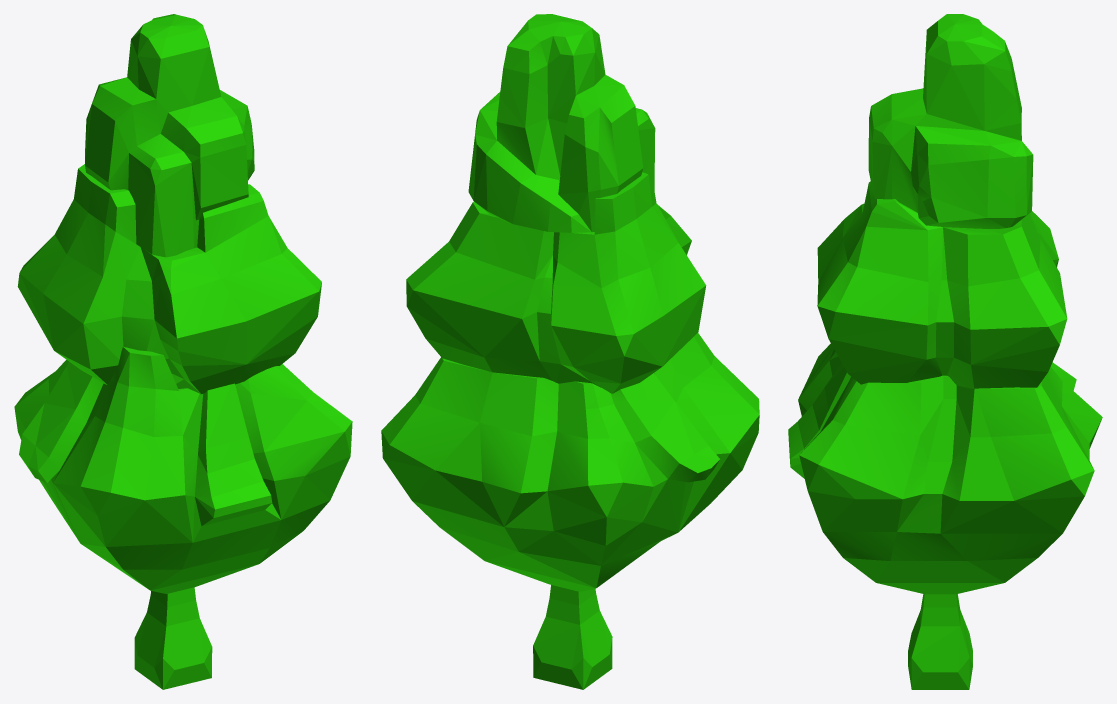
Rendered from Y_tree.FBX.
3 renders of one model, left to right at view 1: azimuth 30°, elevation 25°; view 2: azimuth 150°, elevation 25°; view 3: azimuth 270°, elevation 25°, orthographic. The views are drawn at different scales.
Parts seen in each view (by area): view 1: FOL_Foliage_04, 对象1119; view 2: FOL_Foliage_04, 对象1119; view 3: FOL_Foliage_04, 对象1119.
Part boxes in pixels (x1,y1,x2,y2): FOL_Foliage_04: (14, 14, 352, 593); 对象1119: (134, 587, 212, 689); FOL_Foliage_04: (381, 14, 759, 591); 对象1119: (533, 585, 612, 689); FOL_Foliage_04: (788, 14, 1102, 594); 对象1119: (908, 594, 972, 689).
Size of the model in its own units: 755 by 1756 by 764.
